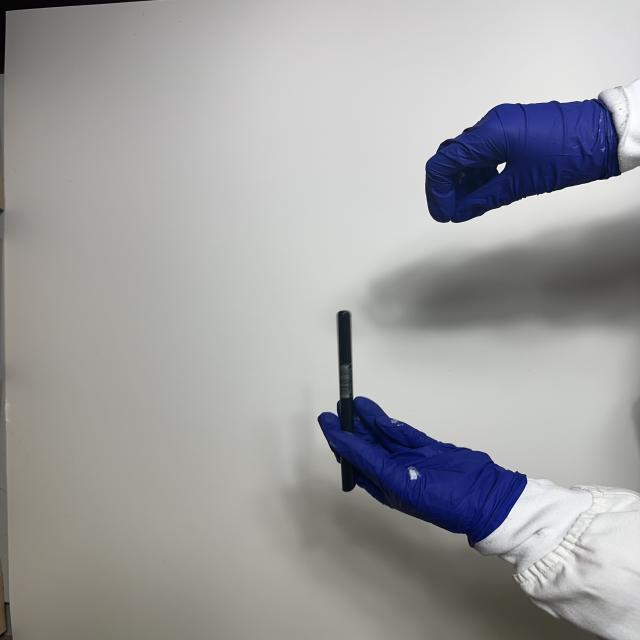gloves_contaminated: (319, 398, 525, 542), (426, 100, 620, 222)
